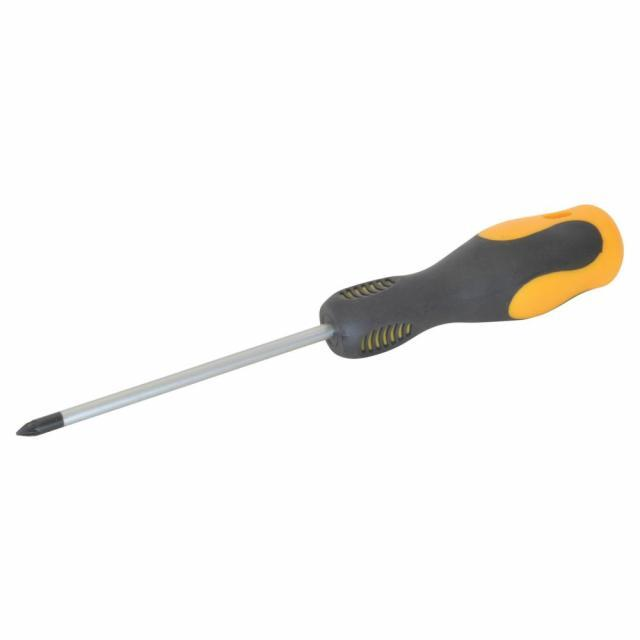screwdriver: (9, 197, 628, 446)
